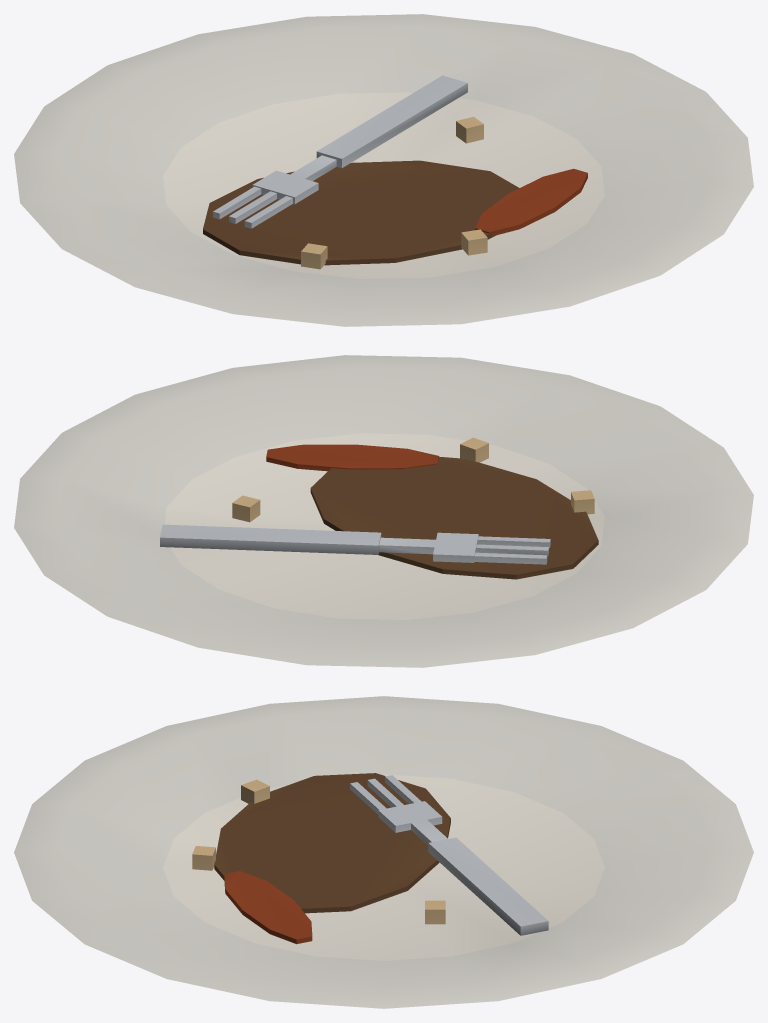
The model's file is plateDirty.glb.
3 renders of one model, top to bottom at view 1: azimuth 30°, elevation 25°; view 2: azimuth 150°, elevation 25°; view 3: azimuth 270°, elevation 25°, orthographic.
Visible parts, largest first — view 1: plateDirty; view 2: plateDirty; view 3: plateDirty.
Boxes of the visible parts, bbox=[...] form: plateDirty: bbox=[14, 14, 753, 326]; plateDirty: bbox=[14, 355, 753, 667]; plateDirty: bbox=[14, 696, 753, 1008].
Size of the model in its own units: 0.288 by 0.0172 by 0.288.
